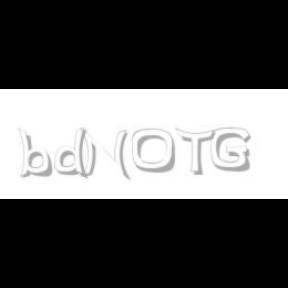G: (210, 128, 250, 172)
N: (79, 128, 128, 180)
O: (132, 128, 176, 174)
T: (175, 128, 215, 176)
b: (18, 128, 56, 178)
d: (54, 128, 92, 180)
